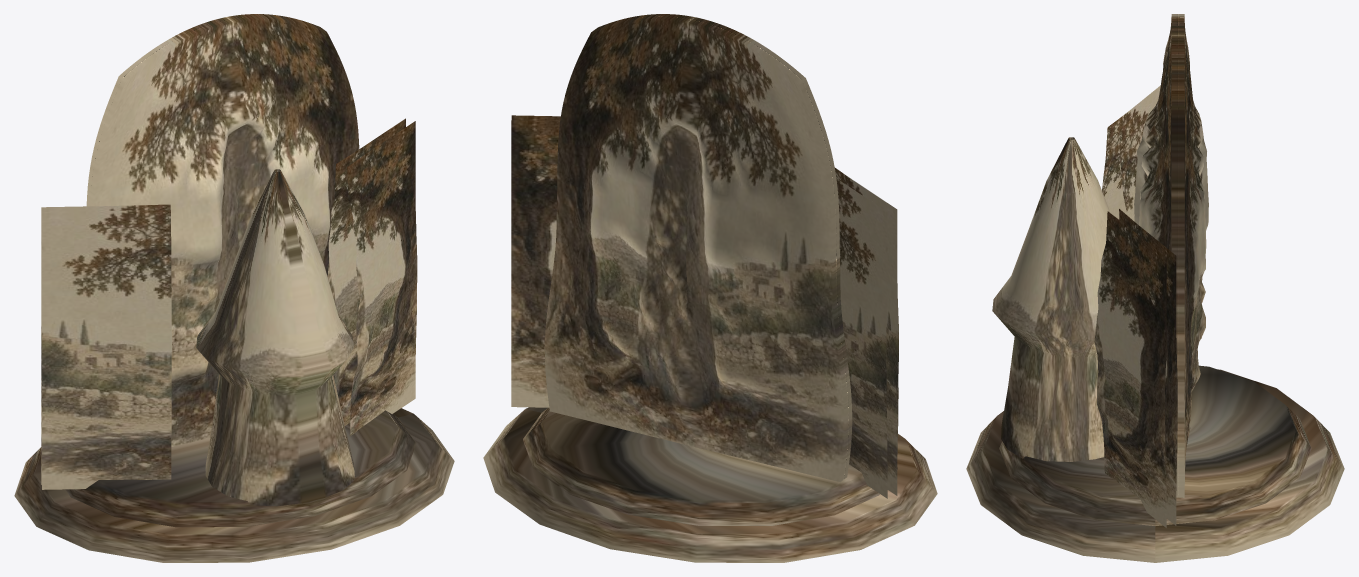
File: shechem-witness-stone.glb
3 views of the same model, side by side, from view 1: azimuth 30°, elevation 25°; view 2: azimuth 150°, elevation 25°; view 3: azimuth 270°, elevation 25° (orthographic). The views are drawn at different scales.
Parts seen in each view (by area): view 1: PaintingSculptureMonument; view 2: PaintingSculptureMonument; view 3: PaintingSculptureMonument.
Part boxes in pixels (box(x1,y1,x2,y2)): PaintingSculptureMonument: box(14, 14, 454, 562); PaintingSculptureMonument: box(483, 14, 937, 562); PaintingSculptureMonument: box(966, 14, 1344, 562).
Size of the model in its own units: 2.76 by 2.99 by 2.35.
Materials: 1 (1 with a texture image).
